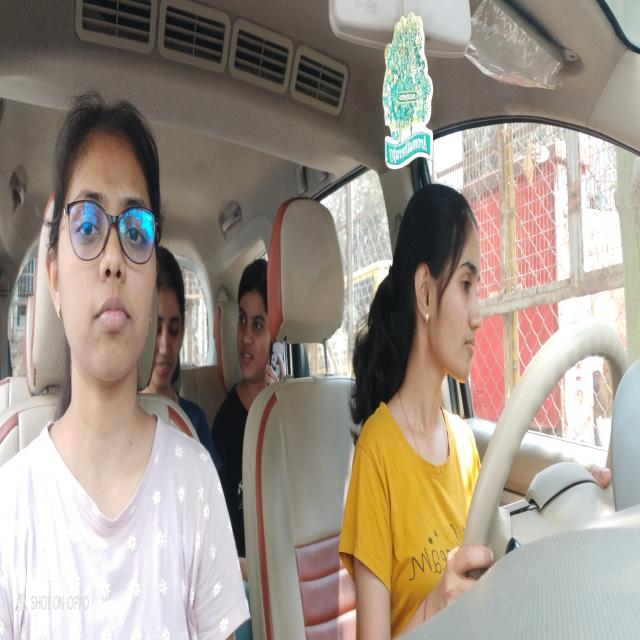person: (45, 90, 164, 395), (414, 176, 484, 395), (235, 262, 278, 382), (157, 252, 187, 385)
